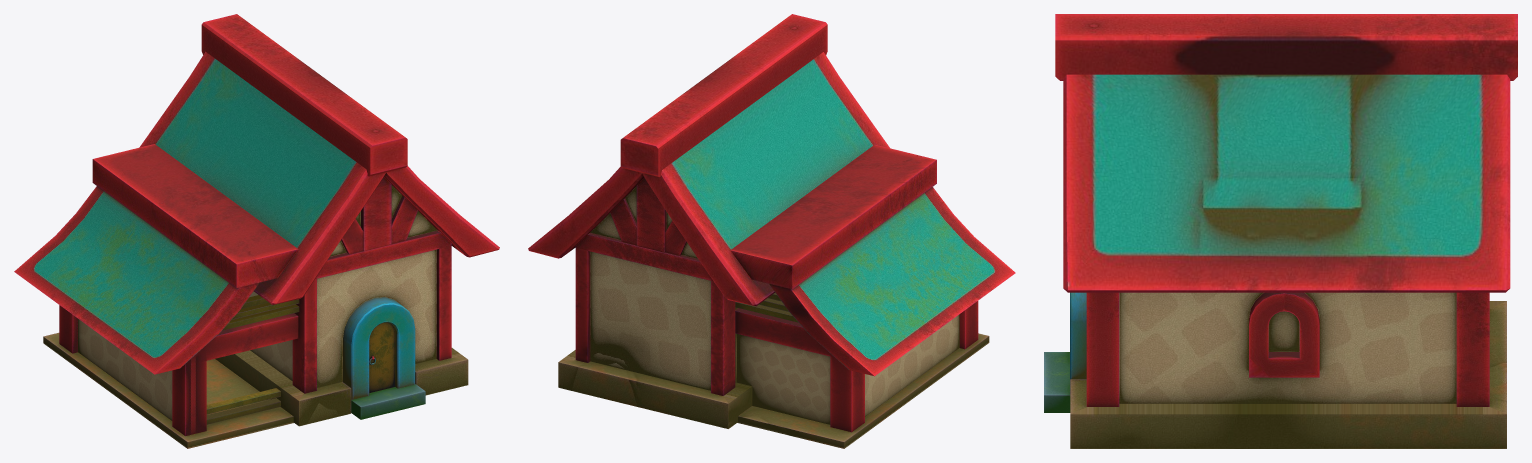
Rendered from house_3.fbx.
3 views of the same model, side by side, from view 1: azimuth 30°, elevation 25°; view 2: azimuth 150°, elevation 25°; view 3: azimuth 270°, elevation 25° (orthographic). The views are drawn at different scales.
Visible parts, largest first — view 1: house_3; view 2: house_3; view 3: house_3.
Part boxes in pixels (box(x1,y1,x2,y2)): house_3: box(14, 14, 499, 448); house_3: box(528, 14, 1015, 448); house_3: box(1044, 14, 1517, 448).
Bounding box in the file's own units: 52.83 × 40.44 × 47.16.
Materials: 4 (4 with a texture image).
